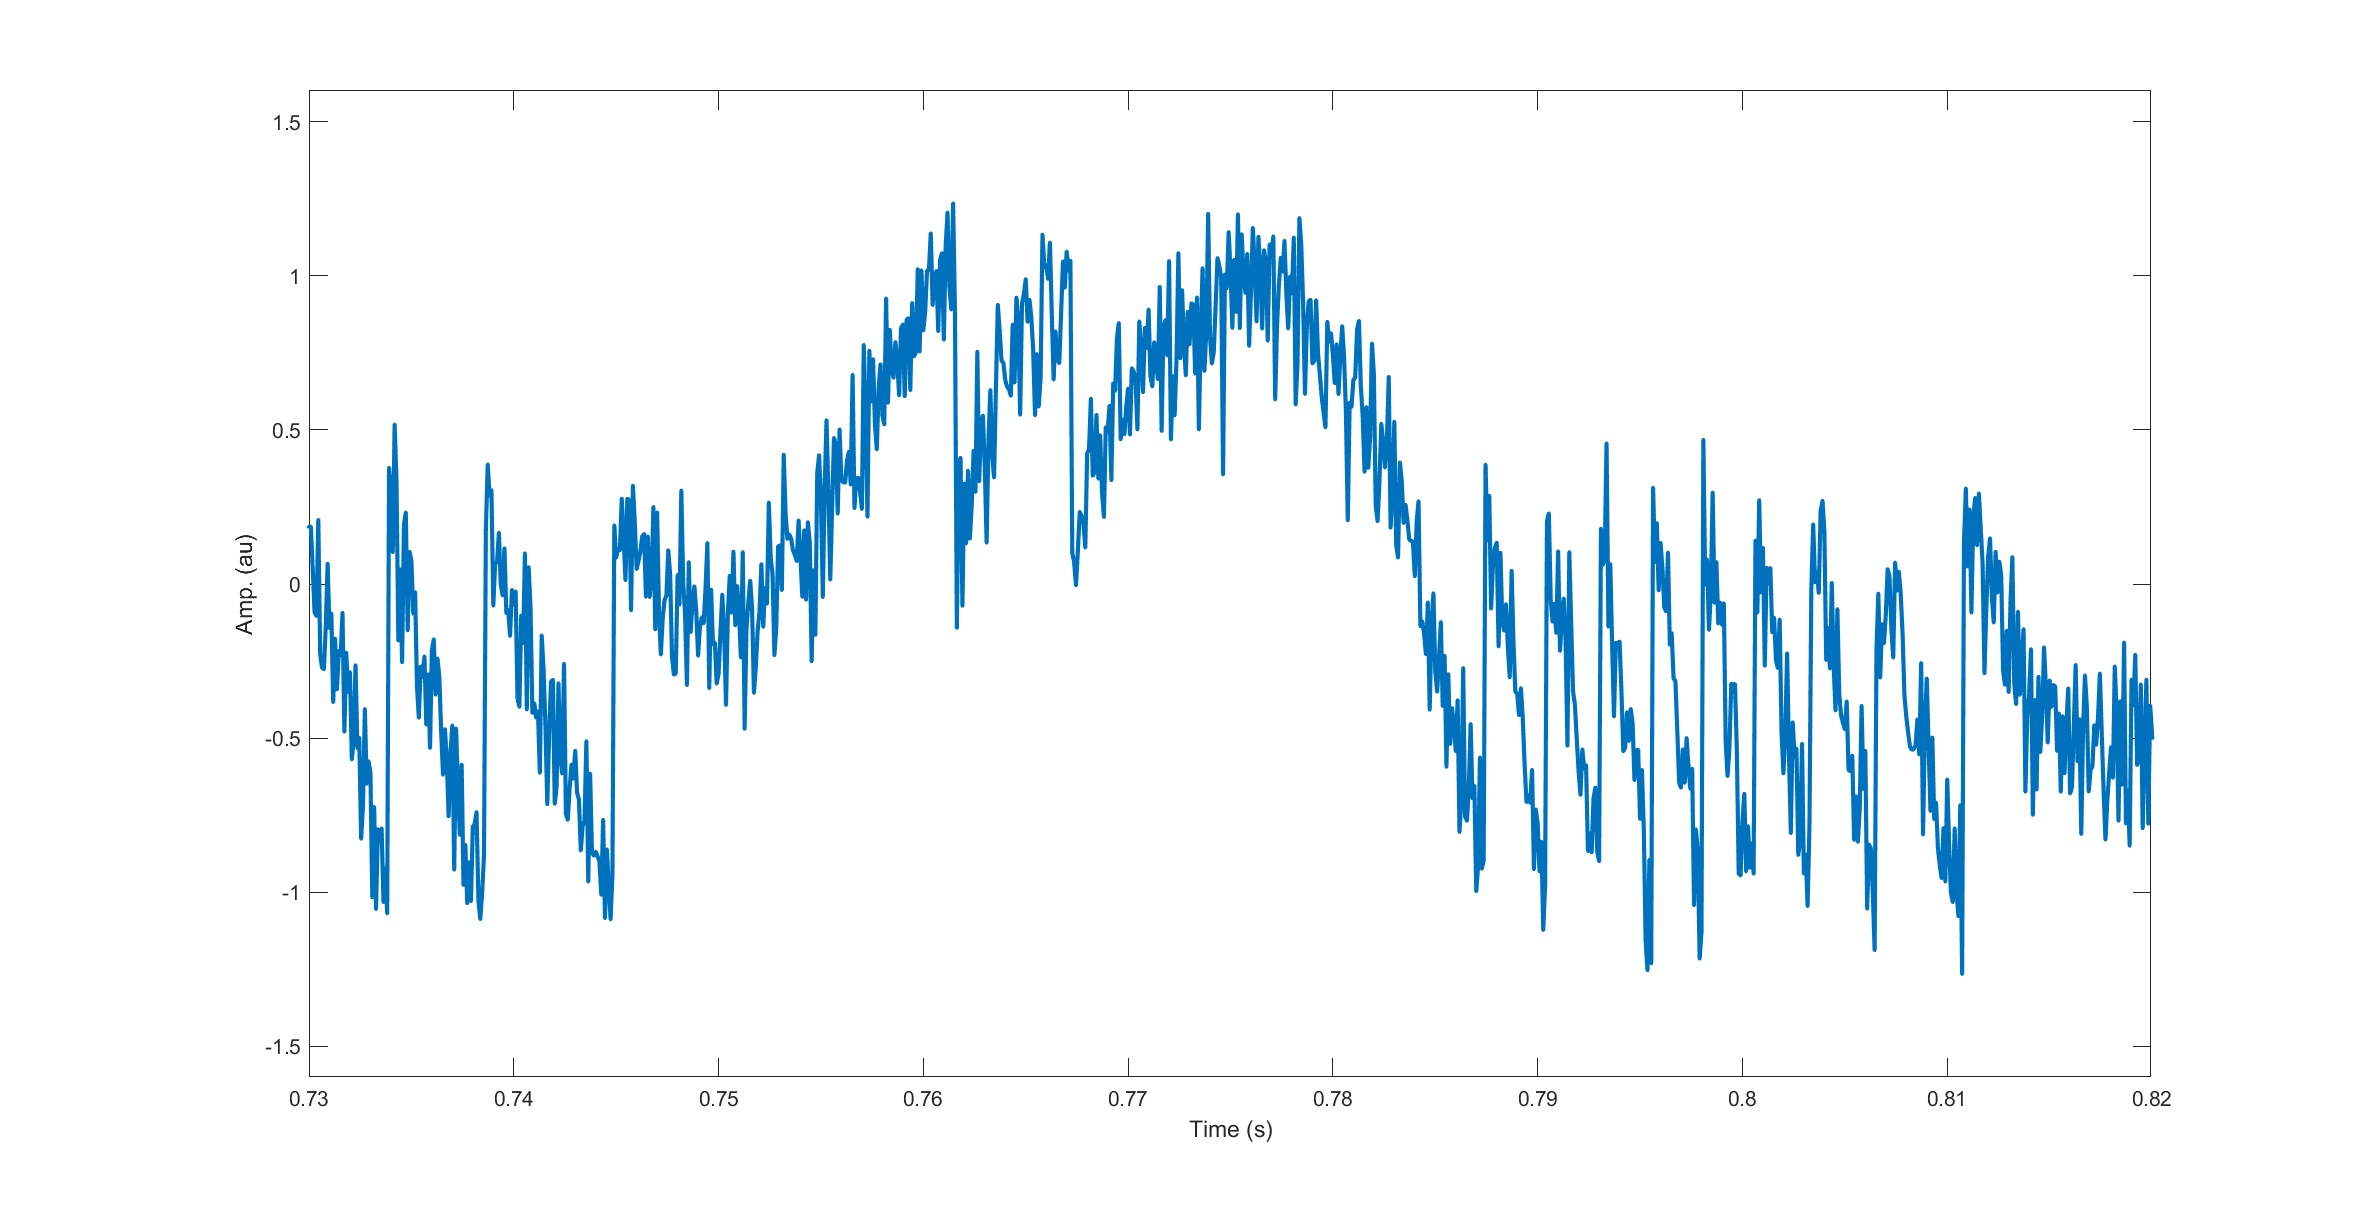negative_fringe: (475, 441, 593, 909), (1954, 471, 2054, 977), (606, 455, 701, 901), (380, 414, 457, 918), (1866, 553, 1946, 934), (1637, 461, 1690, 986), (1799, 492, 1863, 921), (1471, 455, 1528, 894), (1694, 424, 1741, 963), (1532, 494, 1586, 938), (1589, 437, 1637, 891), (1744, 492, 1795, 884)
positive_fringe: (860, 196, 968, 625), (974, 218, 1082, 597)
